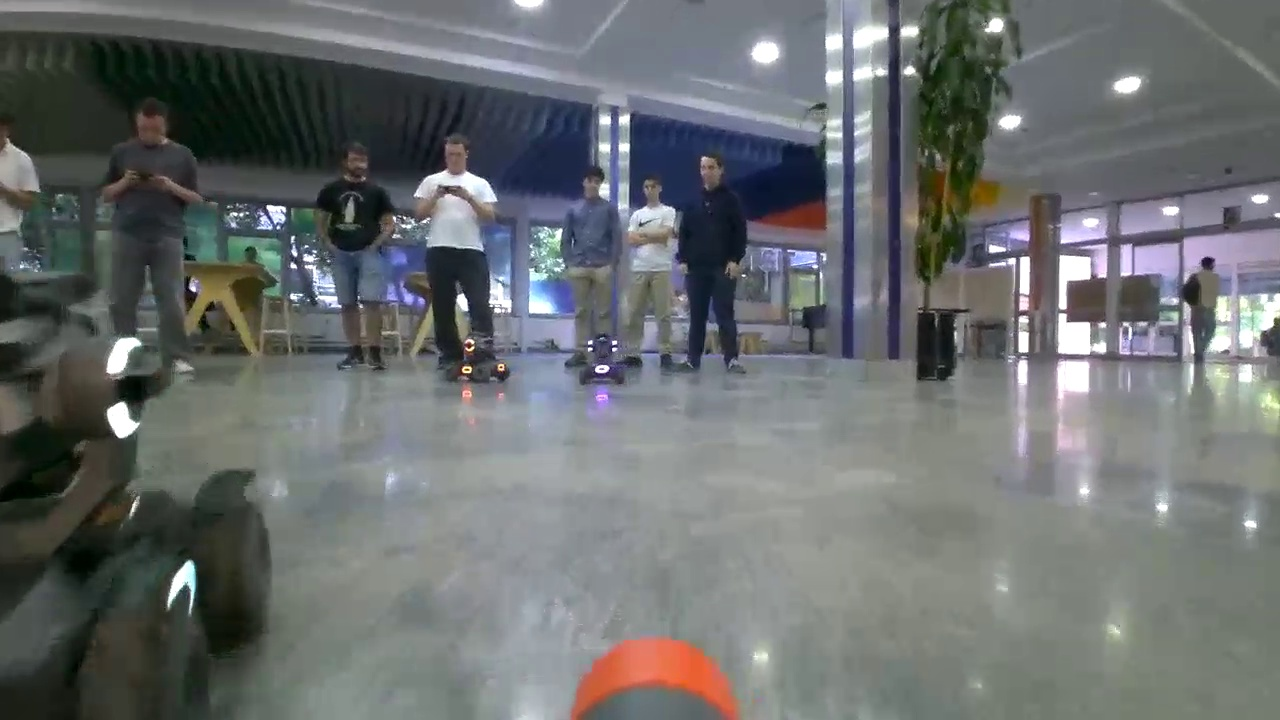robot: (1, 241, 290, 720), (572, 337, 641, 382), (459, 337, 510, 381)
